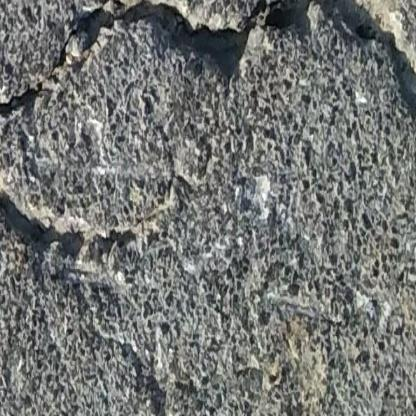Cracks: (53, 0, 416, 116), (0, 186, 160, 264), (0, 83, 44, 117)
